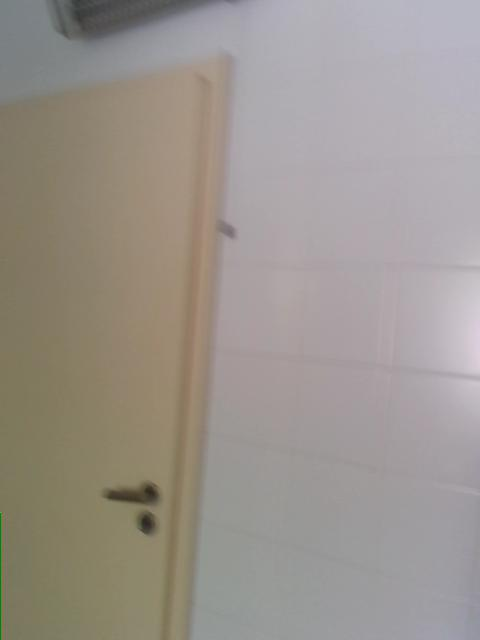door: (0, 61, 233, 639)
